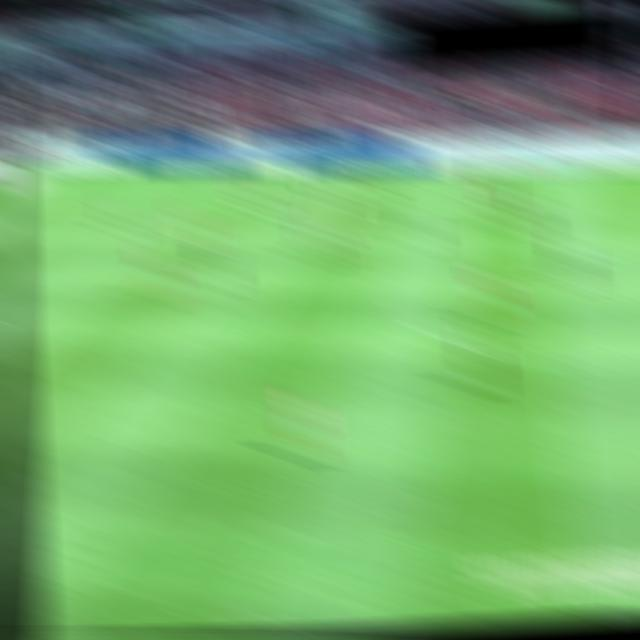bigarea_top_inner: (120, 200, 150, 217)
corner: (25, 164, 58, 183)
halfcircle_bottom: (540, 352, 577, 375)
halfcircle_top: (529, 245, 562, 264)
midline_top_intersection: (519, 163, 551, 181)
top_arc_area_intersection: (58, 244, 89, 263)
